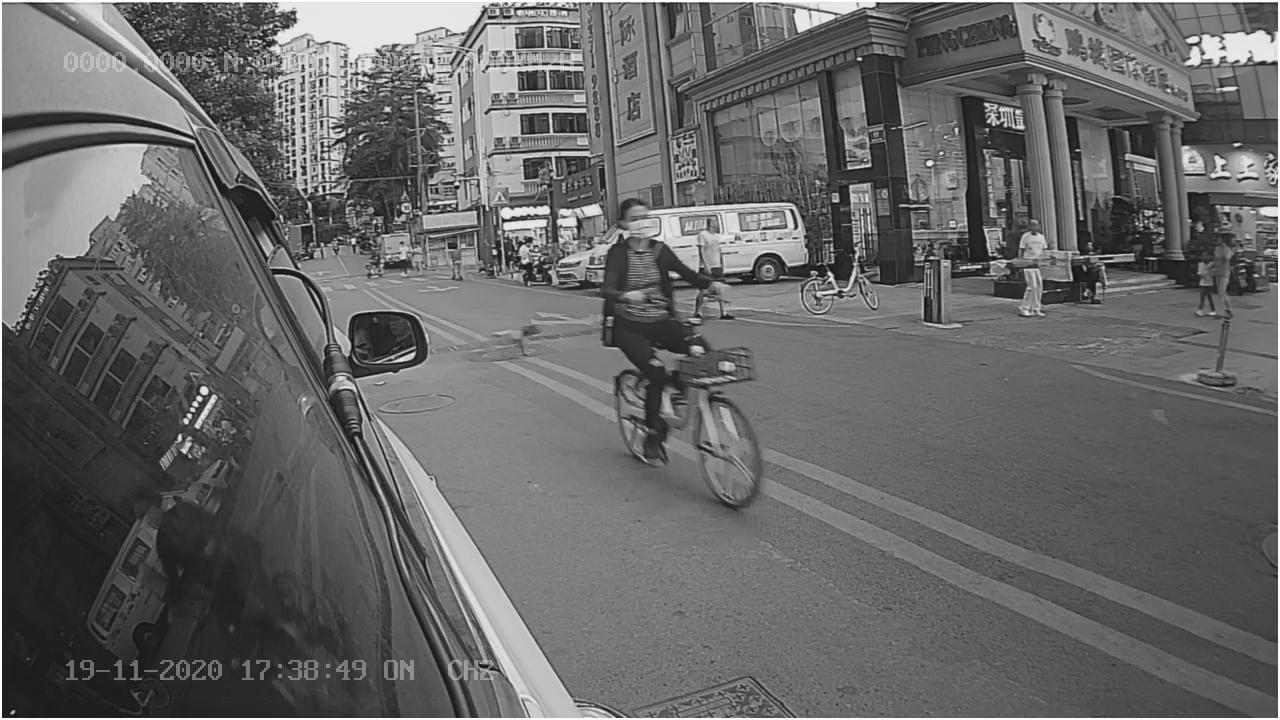person: (594, 202, 705, 363)
